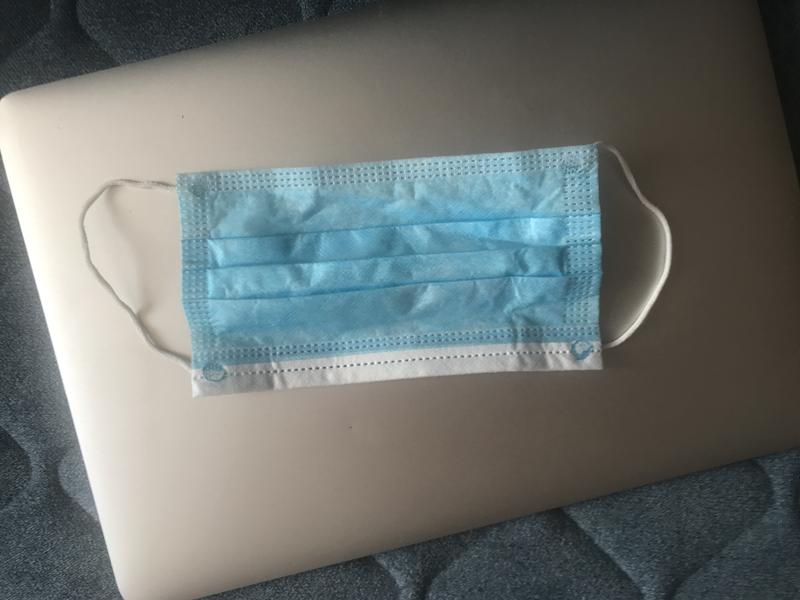medical_mask: (79, 140, 672, 389)
